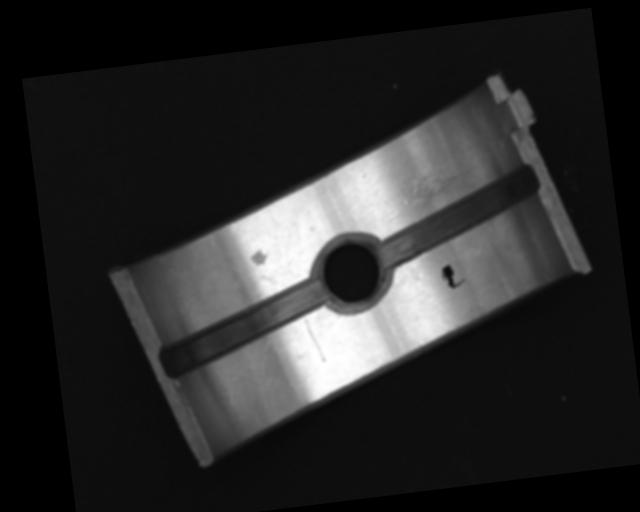blot: (439, 261, 468, 290)
bruise: (249, 246, 270, 267)
gap: (369, 163, 546, 268)
hole: (154, 275, 335, 379), (312, 234, 395, 316)
nick: (302, 314, 326, 364)
scratch: (382, 167, 481, 227)
